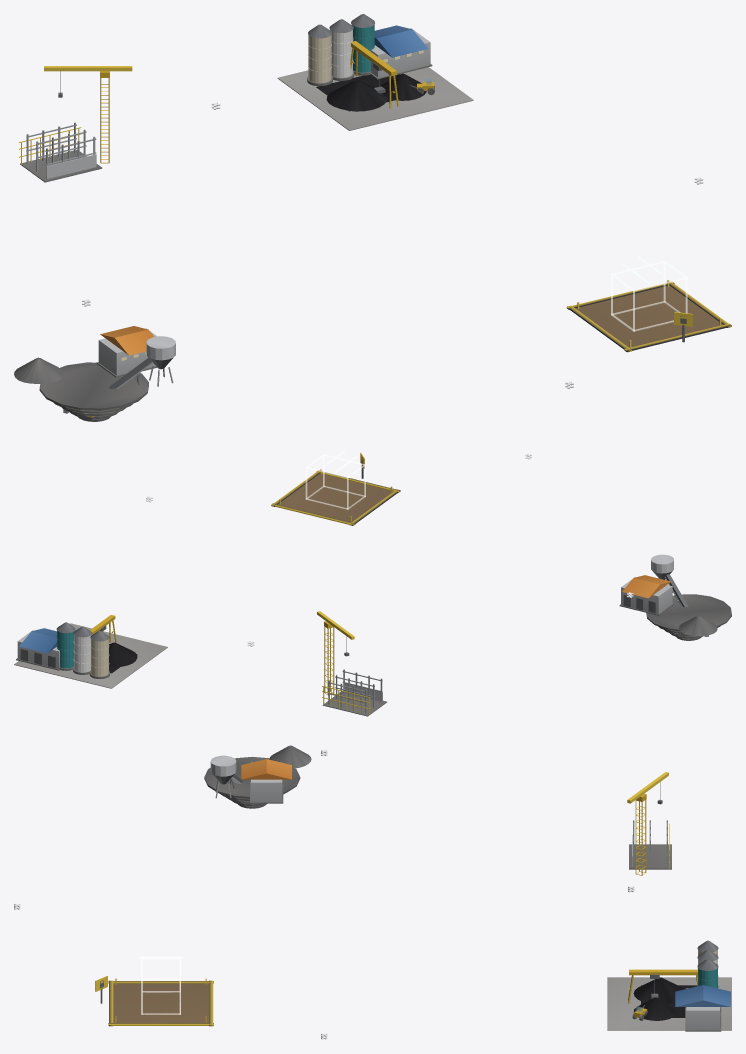
Rendered from Sites_P2.fbx.
3 renders of one model, top to bottom at view 1: azimuth 30°, elevation 25°; view 2: azimuth 150°, elevation 25°; view 3: azimuth 270°, elevation 25°, orthographic. The views are drawn at different scales.
Parts seen in each view (by area): view 1: Site.plant.Pad, Site.Store.Yard, Site.Quarry.Benches, Site.Construction, Site.Store.Shed, Site.Quarry.Shed, Site.Store.Silo0, Site.Store.Pile0, Site.Store.Silo1, Site.plant.Ghost, Site.Crane, Site.Store.Silo2 (+4 smaller); view 2: Site.plant.Pad, Site.Quarry.Benches, Site.Store.Yard, Site.Construction, Site.Quarry.Shed, Site.Store.Shed, Site.Crane, Site.Store.Silo0, Site.plant.Ghost, Site.Store.Silo1, Site.Store.Silo2, Site.Quarry.Heap (+2 smaller); view 3: Site.plant.Pad, Site.Store.Yard, Site.Store.Shed, Site.Quarry.Shed, Site.Quarry.Benches, Site.Construction, Site.Crane, Site.Store.Pile0, Site.Quarry.Hopper, Site.Store.Gantry, Site.plant.Ghost, Site.Store.Pile1 (+2 smaller).
Part boxes in pixels (x1,y1,x2,y2): Site.plant.Pad: (566,280,731,352); Site.Store.Yard: (277,67,473,130); Site.Quarry.Benches: (39,362,148,421); Site.Construction: (19,122,102,182); Site.Store.Shed: (370,25,432,79); Site.Quarry.Shed: (96,326,157,377); Site.Store.Silo0: (307,24,332,86); Site.Store.Pile0: (326,80,386,111); Site.Store.Silo1: (329,19,354,80); Site.plant.Ghost: (611,256,687,331); Site.Crane: (44,66,132,163); Site.Store.Silo2: (351,14,374,75); Site.plant.Pad: (271,469,400,525); Site.Quarry.Benches: (646,594,731,640); Site.Store.Yard: (14,623,167,688); Site.Construction: (322,669,386,716); Site.Quarry.Shed: (619,575,673,615); Site.Store.Shed: (16,628,60,670); Site.Crane: (317,611,354,695); Site.Store.Silo0: (89,630,109,678); Site.plant.Ghost: (305,450,365,509); Site.Store.Silo1: (73,626,92,674); Site.Store.Silo2: (56,622,75,670); Site.Quarry.Heap: (678,616,717,636); Site.plant.Pad: (108,978,213,1026); Site.Store.Yard: (607,977,731,1030); Site.Store.Shed: (675,985,730,1031); Site.Quarry.Shed: (241,759,291,803); Site.Quarry.Benches: (204,756,300,808); Site.Construction: (629,820,671,869); Site.Crane: (627,772,668,875); Site.Store.Pile0: (633,977,683,1003); Site.Quarry.Hopper: (210,755,236,798); Site.Store.Gantry: (628,969,697,1003); Site.plant.Ghost: (137,956,184,1014); Site.Store.Pile1: (633,997,676,1020).
Bounding box in the file's own units: 29448 × 5061 × 29934.
